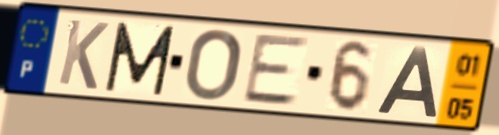6: (326, 38, 375, 115)
A: (372, 44, 440, 119)
E: (239, 33, 313, 108)
K: (55, 16, 112, 93)
M: (102, 20, 179, 98)
O: (182, 27, 245, 103)
